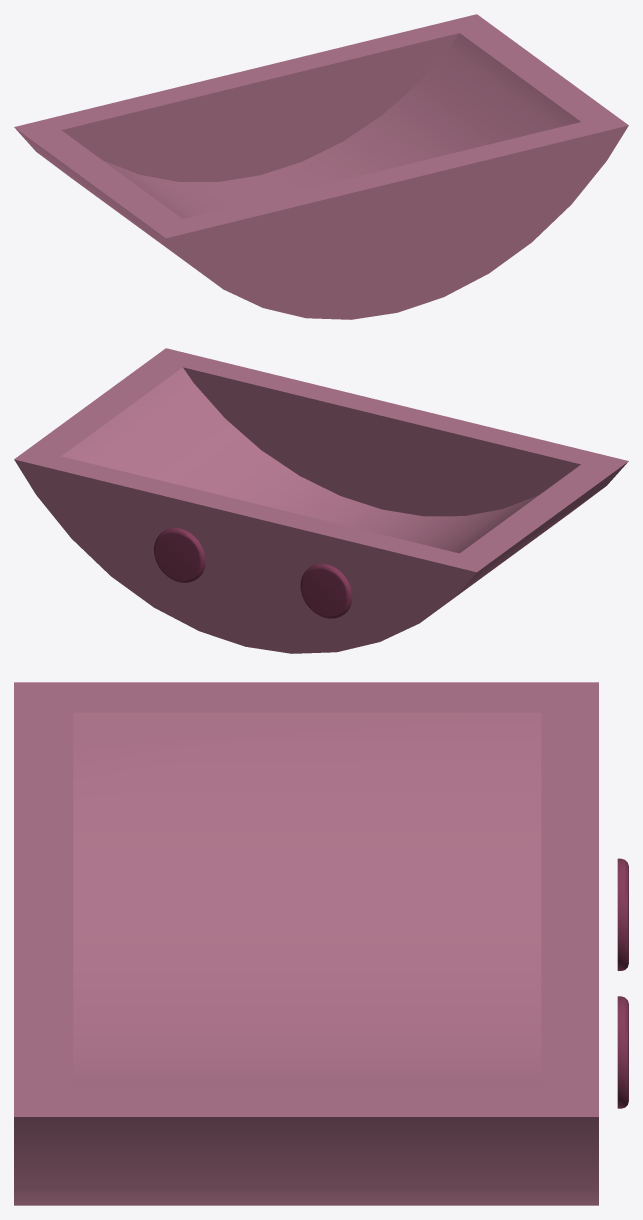
Rendered from cajon3.obj.
3 renders of one model, top to bottom at view 1: azimuth 30°, elevation 25°; view 2: azimuth 150°, elevation 25°; view 3: azimuth 270°, elevation 25°, orthographic. The views are drawn at different scales.
Parts seen in each view (by area): view 1: polySurface5; view 2: polySurface5; view 3: polySurface5.
Boxes of the visible parts, x1=… form: polySurface5: x1=14, y1=14, x2=628, y2=319; polySurface5: x1=14, y1=348, x2=628, y2=653; polySurface5: x1=14, y1=682, x2=628, y2=1205.
Size of the model in its own units: 1.83 by 0.4941 by 1.09.
